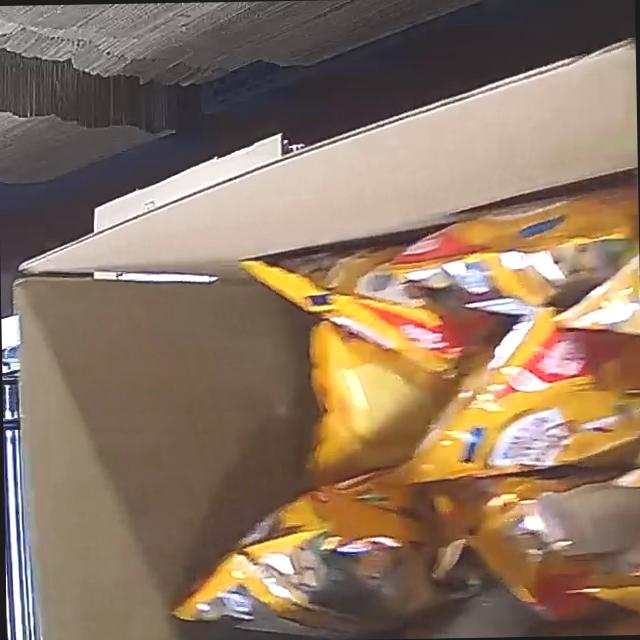cheese: (187, 180, 640, 640)
